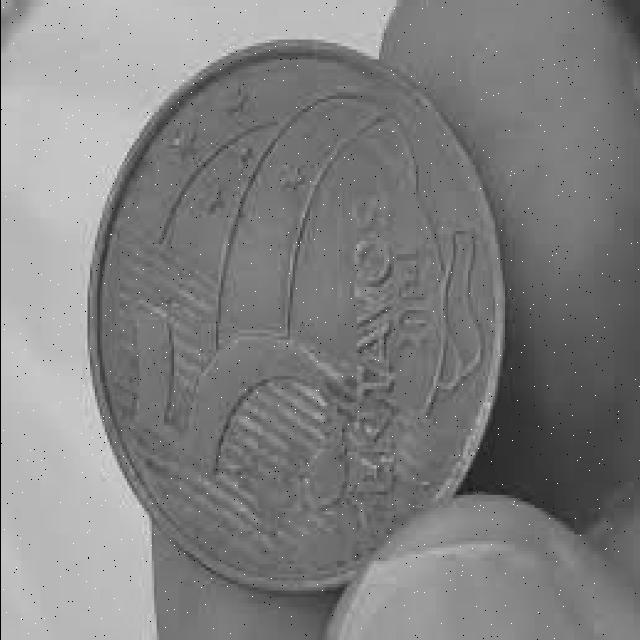5 cent: (86, 57, 496, 588)
